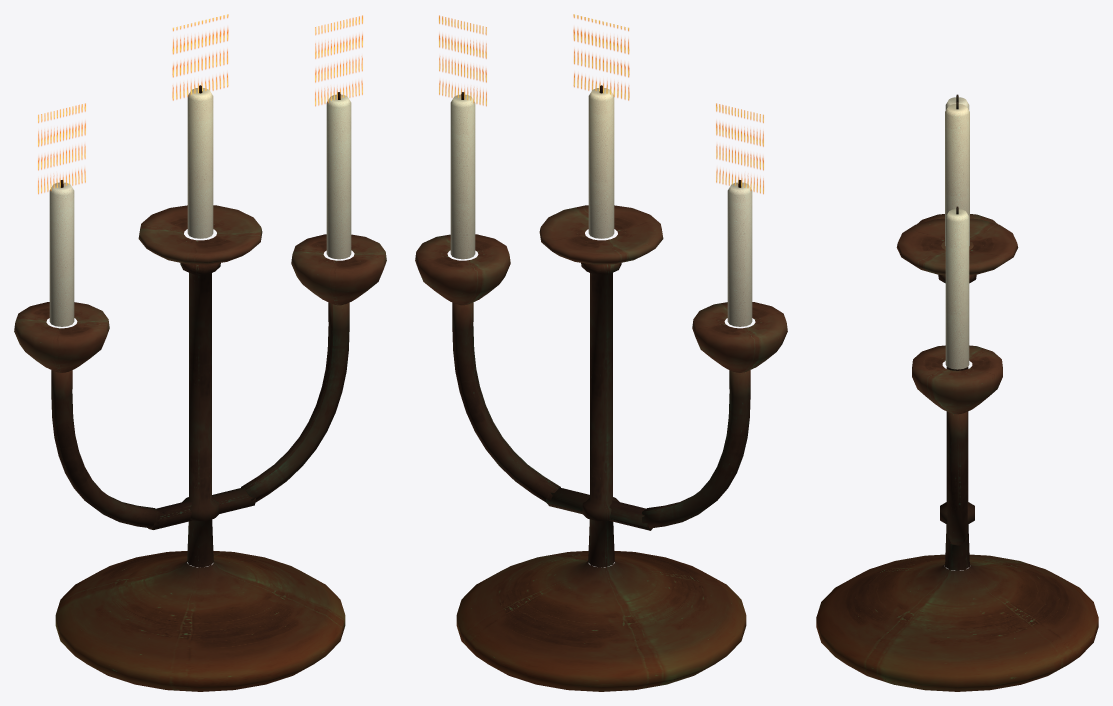
File: mm8_deco_candlestick.glb
3 renders of one model, left to right at view 1: azimuth 30°, elevation 25°; view 2: azimuth 150°, elevation 25°; view 3: azimuth 270°, elevation 25°, orthographic. The views are drawn at different scales.
Parts seen in each view (by area): view 1: Candlestick; view 2: Candlestick; view 3: Candlestick.
Part boxes in pixels (bbox=[...]): Candlestick: bbox=[14, 14, 386, 691]; Candlestick: bbox=[415, 14, 787, 691]; Candlestick: bbox=[816, 94, 1098, 691].
Bounding box in the file's own units: 0.9131 × 1.51 × 0.6365.
5 materials, 5 textured.
